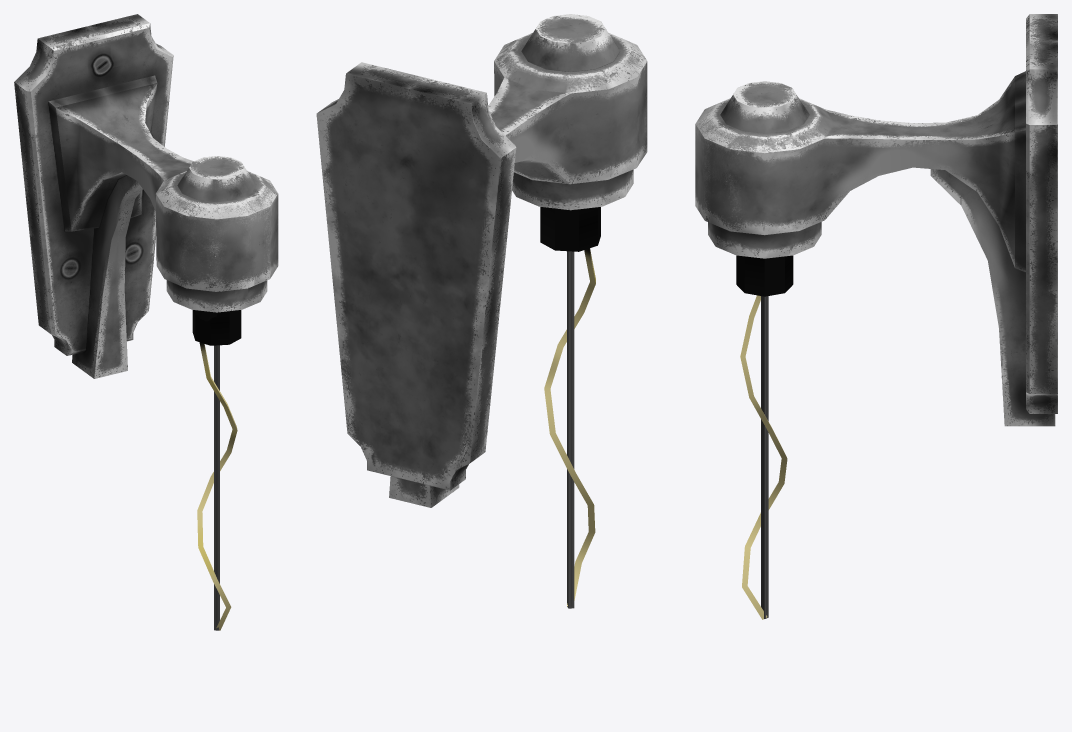
File: Lamp.FBX
3 renders of one model, left to right at view 1: azimuth 30°, elevation 25°; view 2: azimuth 150°, elevation 25°; view 3: azimuth 270°, elevation 25°, orthographic. The views are drawn at different scales.
Parts seen in each view (by area): view 1: Object002; view 2: Object002; view 3: Object002.
Part boxes in pixels (bbox=[...]): Object002: bbox=[14, 14, 278, 630]; Object002: bbox=[316, 14, 647, 608]; Object002: bbox=[695, 14, 1057, 619].
Bounding box in the file's own units: 34.22 × 65.75 × 131.
